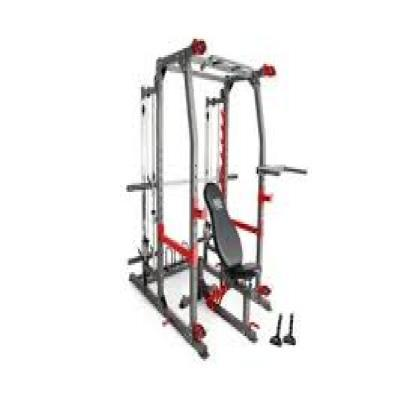smith machine: (126, 37, 307, 362)
